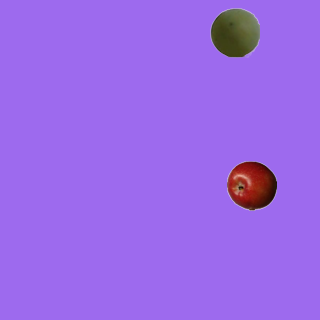Apple Braeburn: (226, 160, 276, 210)
Grape White 4: (209, 7, 259, 57)
